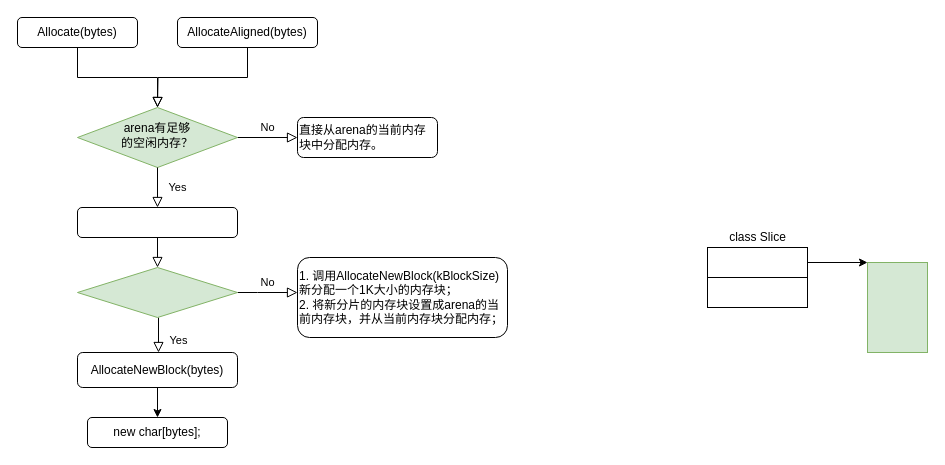
The diagram is 945 pixels wide and 465 high, and some of its shapes have lost their labels. The shapes that lost their labels are listed below. From the top down, each one's box as (x1, y1, x2, y2) in pixels, then its label:
(76, 206, 238, 238): AllocateFallback(bytes)
(706, 246, 808, 278): const char *data_;
(76, 266, 238, 318): bytes > kBlockSize/4
(706, 276, 808, 308): size_t size_;
